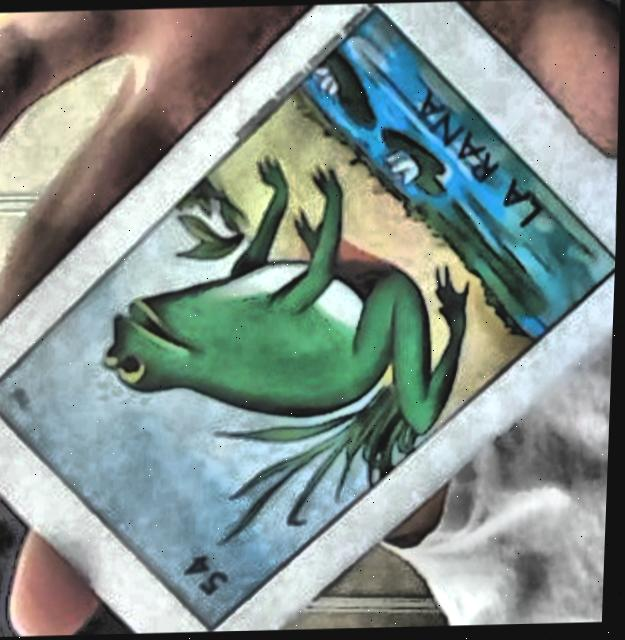La Rana: (0, 15, 613, 633)
